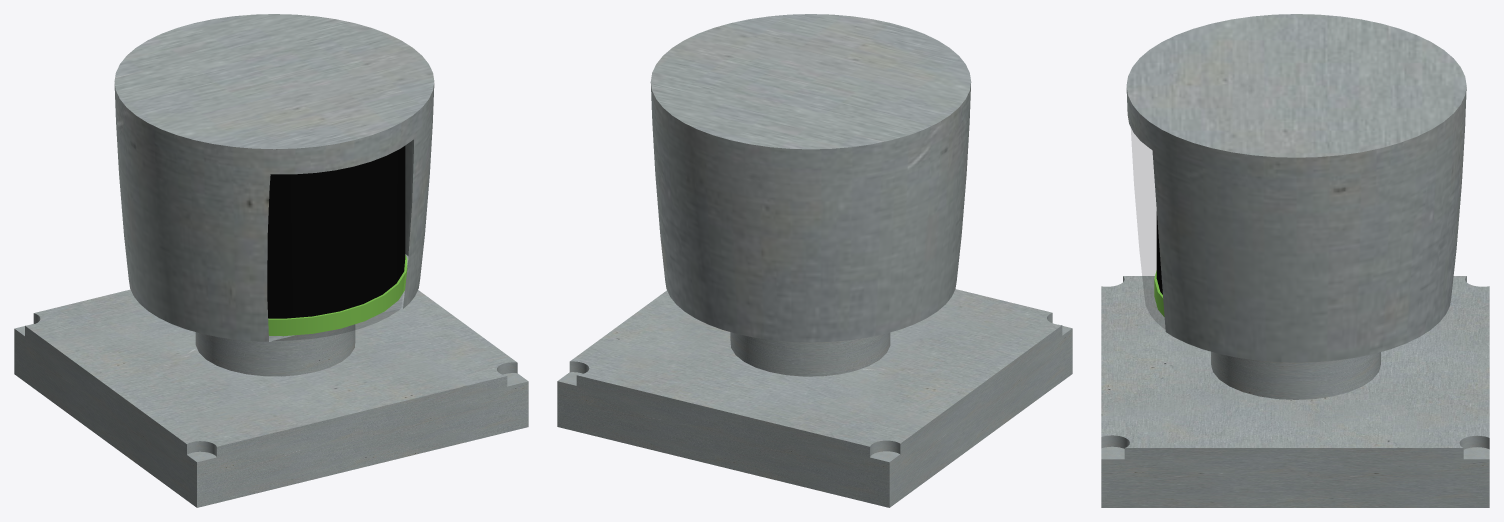
Rendered from velodyne_outlet.obj.
3 renders of one model, left to right at view 1: azimuth 30°, elevation 25°; view 2: azimuth 150°, elevation 25°; view 3: azimuth 270°, elevation 25°, orthographic. The views are drawn at different scales.
Parts seen in each view (by area): view 1: shell, dizuo, neike, dianji, dituo, glass; view 2: shell, dizuo, dianji; view 3: shell, dizuo, dianji, glass.
Boxes of the visible parts, left/top/right/bottom form: shell: left=114, top=14, right=434, bottom=341; dizuo: left=14, top=289, right=528, bottom=507; neike: left=267, top=146, right=405, bottom=318; dianji: left=195, top=324, right=355, bottom=376; dituo: left=268, top=255, right=407, bottom=336; glass: left=274, top=309, right=399, bottom=340; shell: left=650, top=14, right=971, bottom=342; dizuo: left=557, top=289, right=1072, bottom=507; dianji: left=730, top=332, right=890, bottom=376; shell: left=1126, top=14, right=1466, bottom=362; dizuo: left=1101, top=276, right=1489, bottom=507; dianji: left=1211, top=351, right=1380, bottom=399; glass: left=1131, top=129, right=1164, bottom=328.
Bounding box in the file's own units: 212 × 194 × 202.
4 materials, 1 textured.
